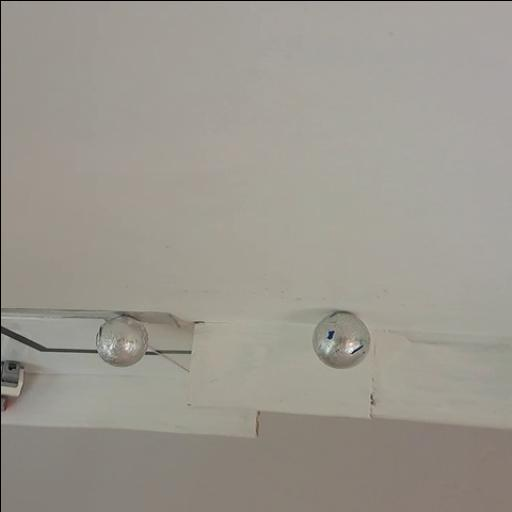alive: (310, 310, 370, 368), (92, 314, 150, 367)
